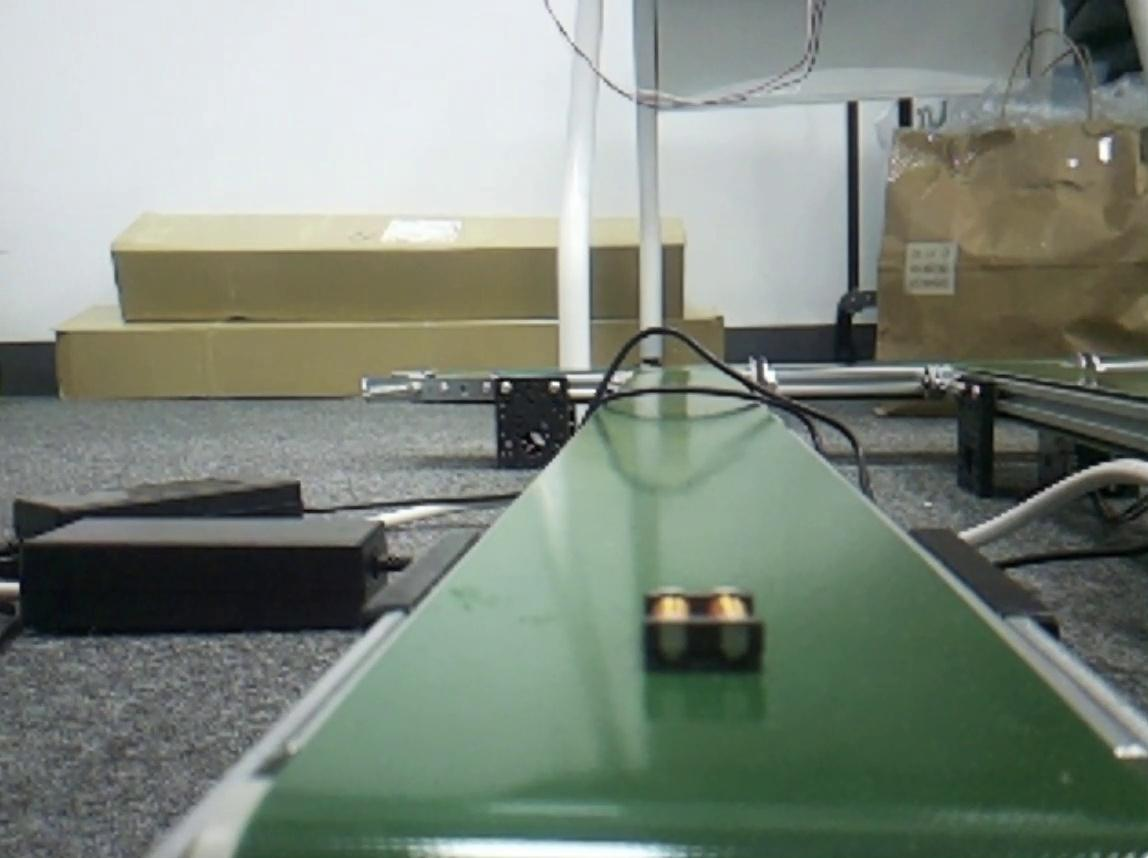inductor: (645, 592, 767, 667)
